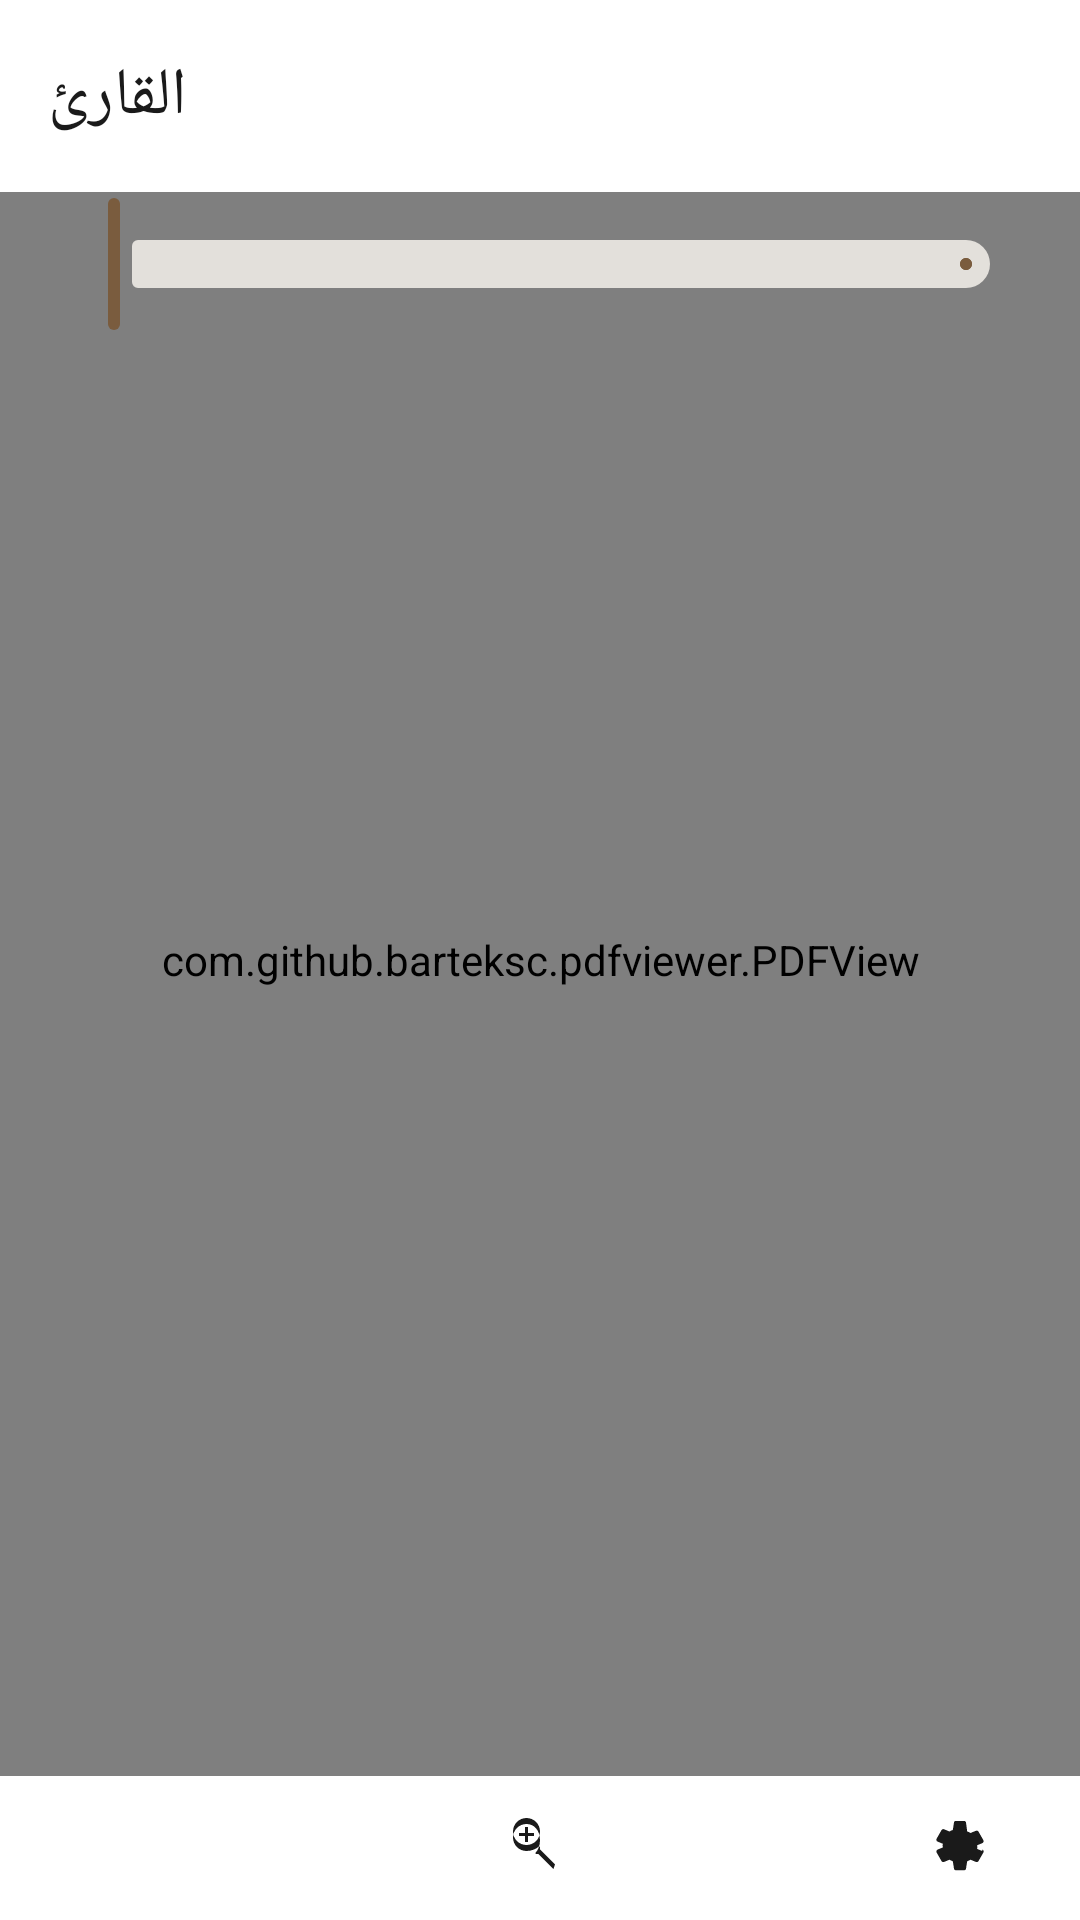

Icon click points for this 1080 × 1920 phone screenshot, format (x,y):
إعدادات العرض: (960,1846)
تكبير: (534,1843)
